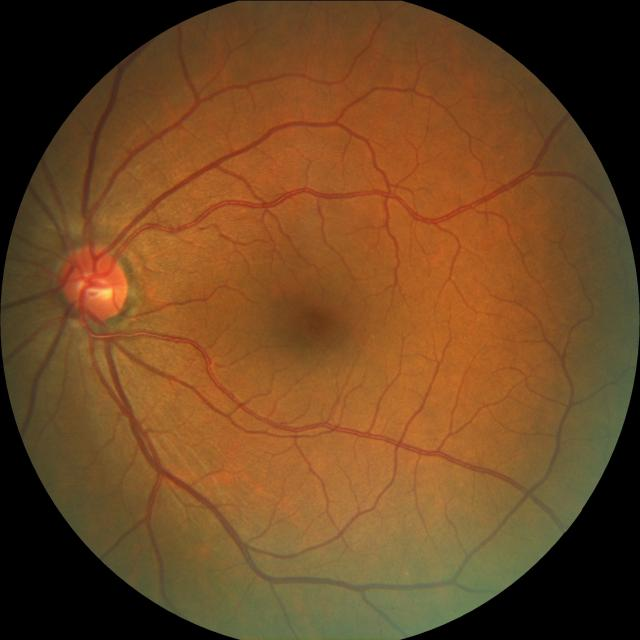OC: (78, 268, 114, 302)
OD: (58, 246, 128, 320)
